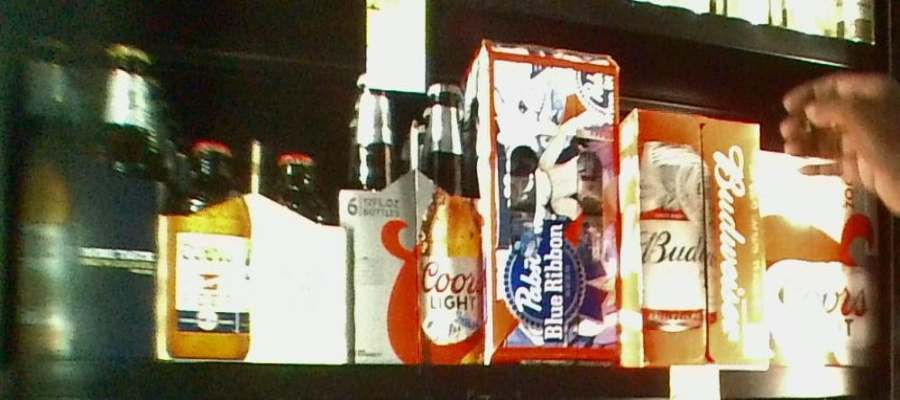bottle: (3, 28, 158, 357), (479, 41, 622, 368), (160, 140, 347, 374), (347, 71, 482, 363), (620, 110, 768, 369), (764, 181, 879, 366)
